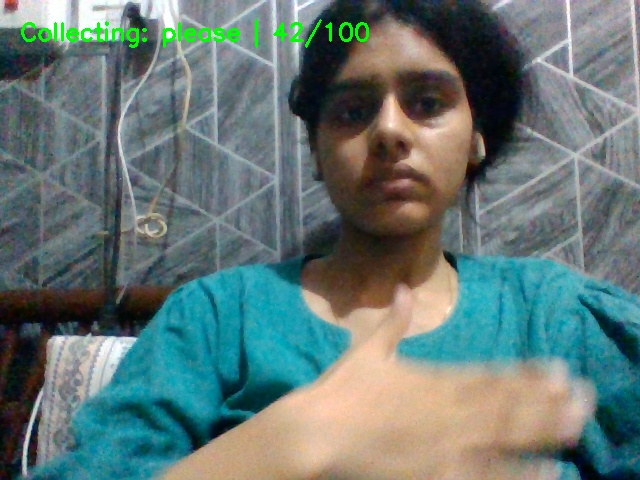please: (257, 292, 624, 480)
